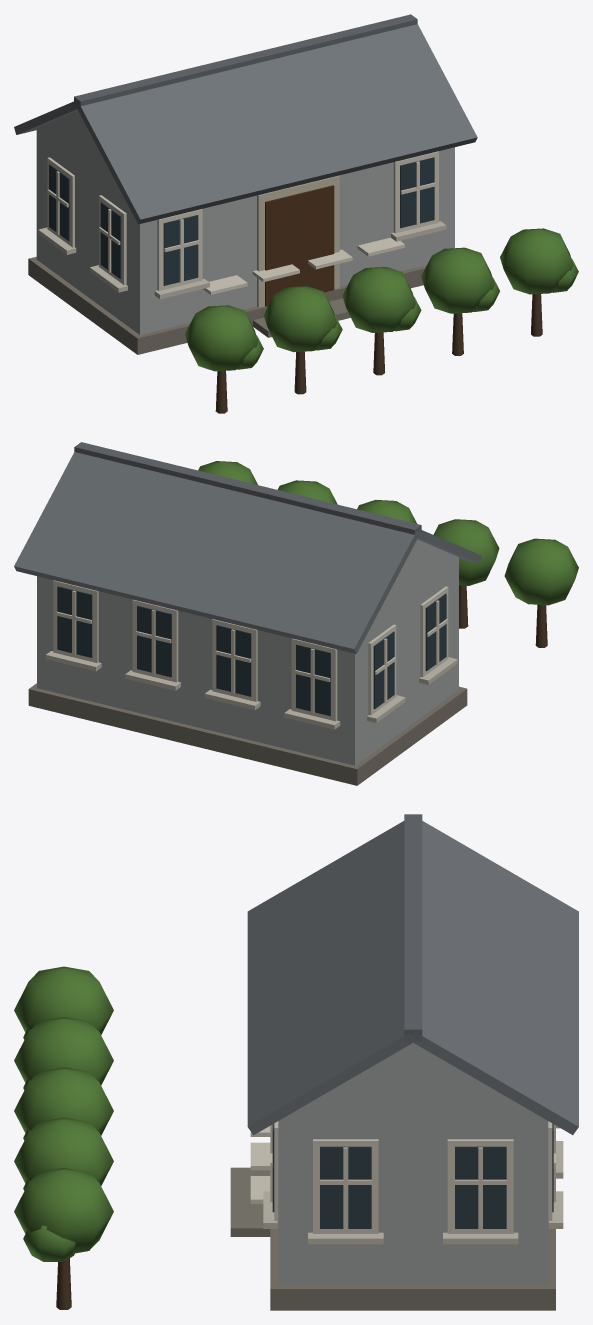
Rendered from procedural_silk_farm@6.glb.
3 views of the same model, one above another, from view 1: azimuth 30°, elevation 25°; view 2: azimuth 150°, elevation 25°; view 3: azimuth 270°, elevation 25° (orthographic). The views are drawn at different scales.
Parts seen in each view (by area): view 1: part_0; view 2: part_0; view 3: part_0.
Part boxes in pixels (x1,y1,x2,y2): part_0: (14, 14, 578, 413); part_0: (14, 442, 578, 785); part_0: (14, 814, 578, 1310).
Bounding box in the file's own units: 7.26 × 3.96 × 7.12.
